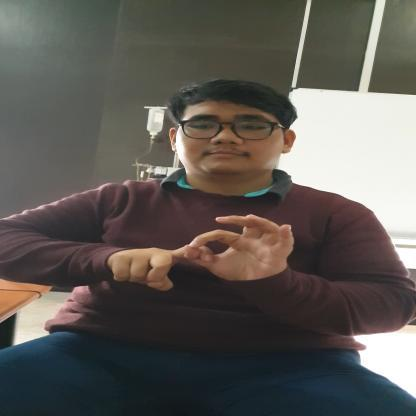Q: (110, 212, 295, 294)
